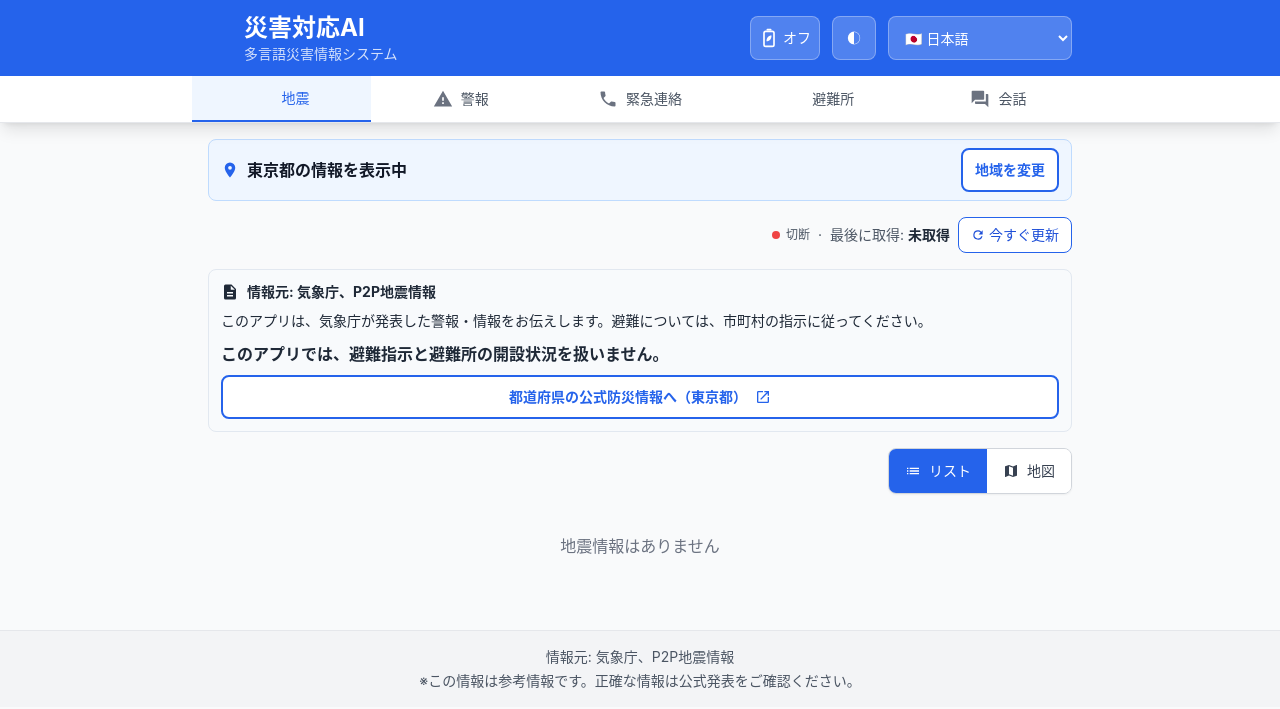
Test: page.tsx — 特別警報の帯（B8） › 前回なしでも警報タブの取得失敗を上部の未確認に反映し、再取得成功で消す
Click the tab with id "tab-warning": (461,99) top-left (371, 76), bottom-right (550, 122)
(page scrolled)
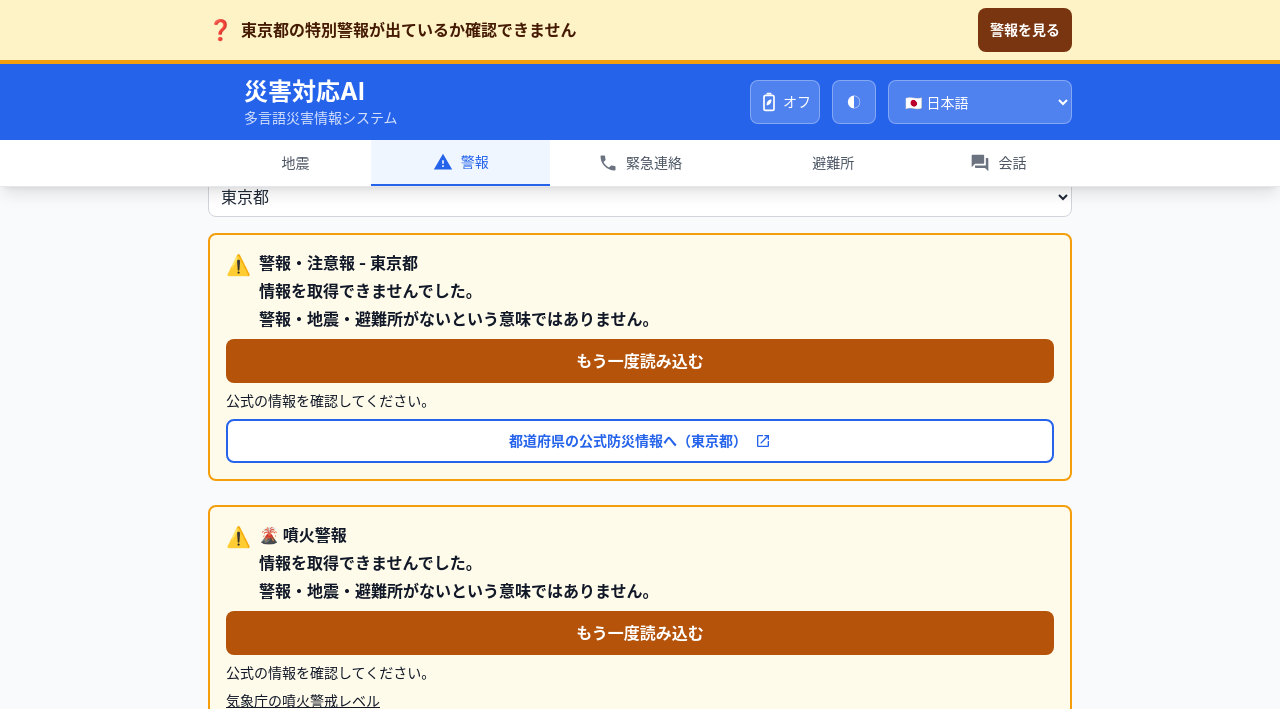
Check: the message with test id "special-warning-unconfirmed" is shown, box top-left (0, 0), bottom-right (1279, 64)
Click the button "もう一度読み込む" below "警報・注意報 - 東京都": (640,361) top-left (226, 339), bottom-right (1054, 383)
(page scrolled)
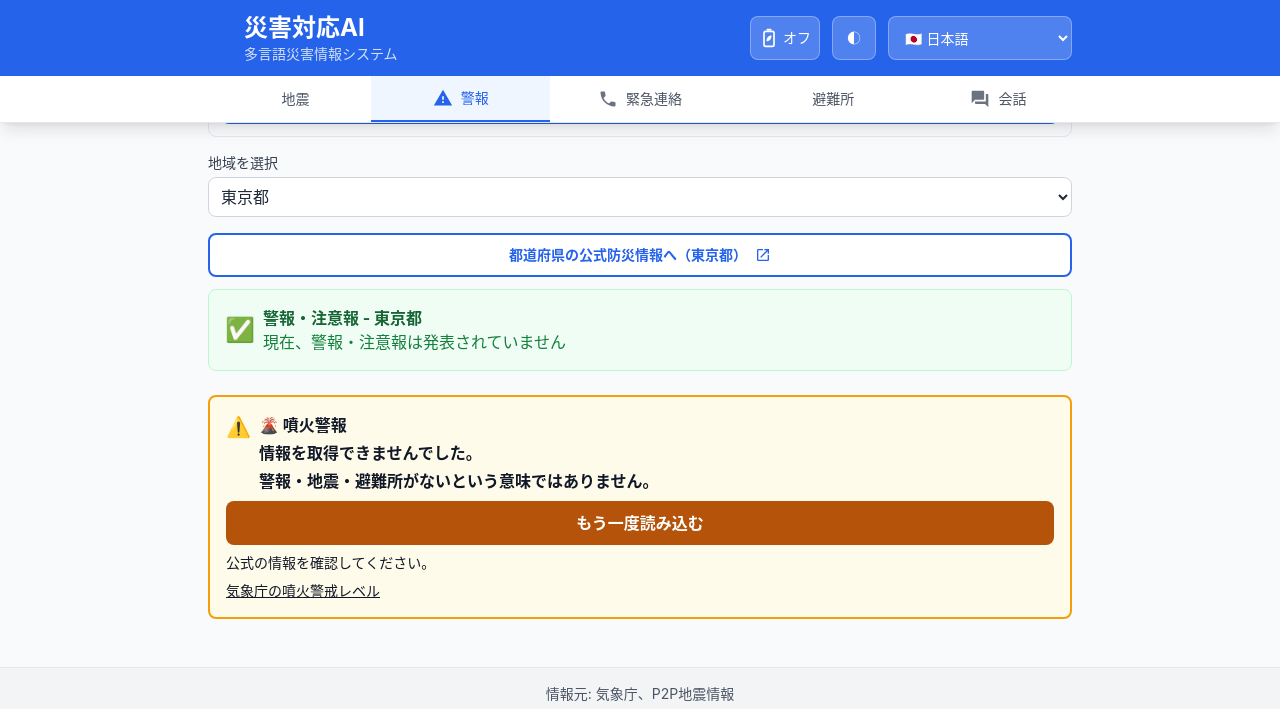
Check: the message with test id "special-warning-unconfirmed" is gone
Check: the message with test id "warning-fetch-failure" is gone
